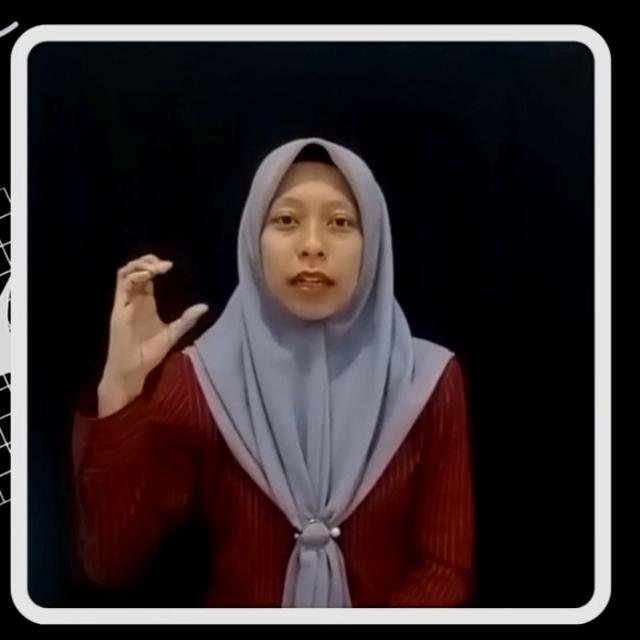C: (103, 252, 209, 374)
